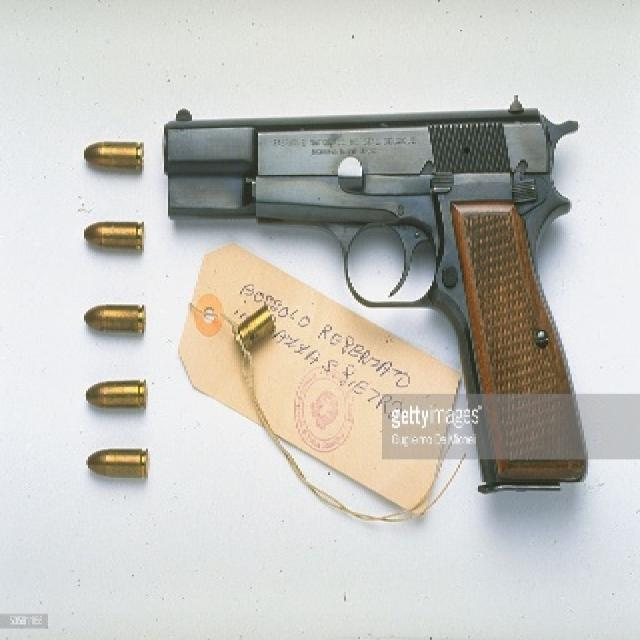handgun: (159, 105, 593, 502)
